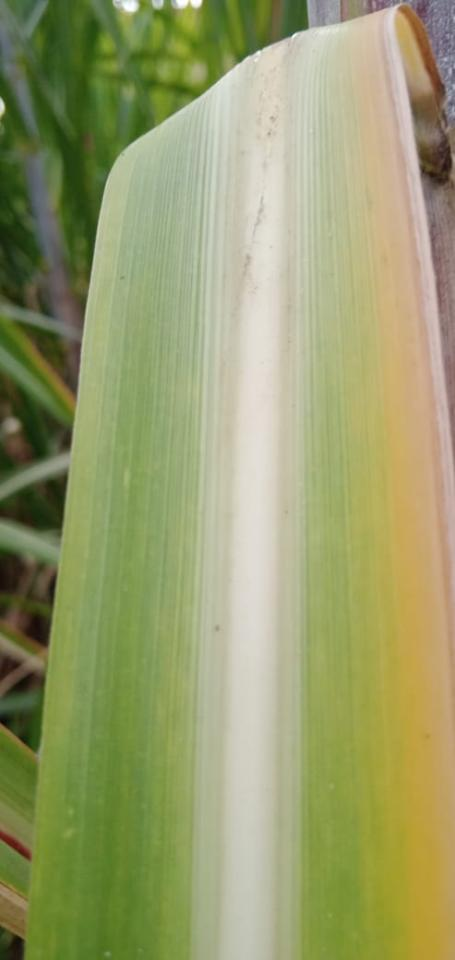Rust: (214, 624, 222, 632)
Yellow: (350, 4, 454, 959)
